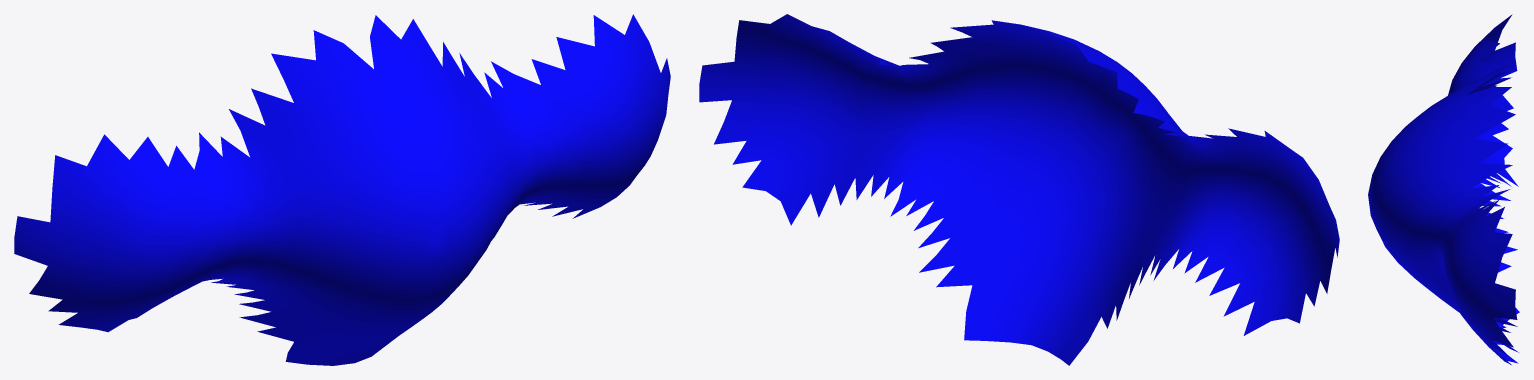
Rendered from blob2_opt_final2.obj.
The picture shows the model from 3 angles, left to right: view 1: azimuth 30°, elevation 25°; view 2: azimuth 150°, elevation 25°; view 3: azimuth 270°, elevation 25°; orthographic projection. The views are drawn at different scales.
Bounding box in the file's own units: 39.64 × 19.22 × 10.19.
